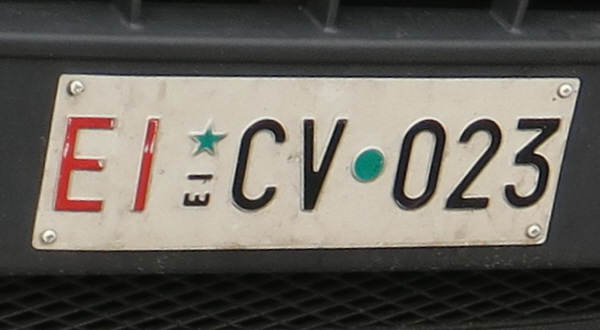license_plate: (30, 75, 581, 253)
